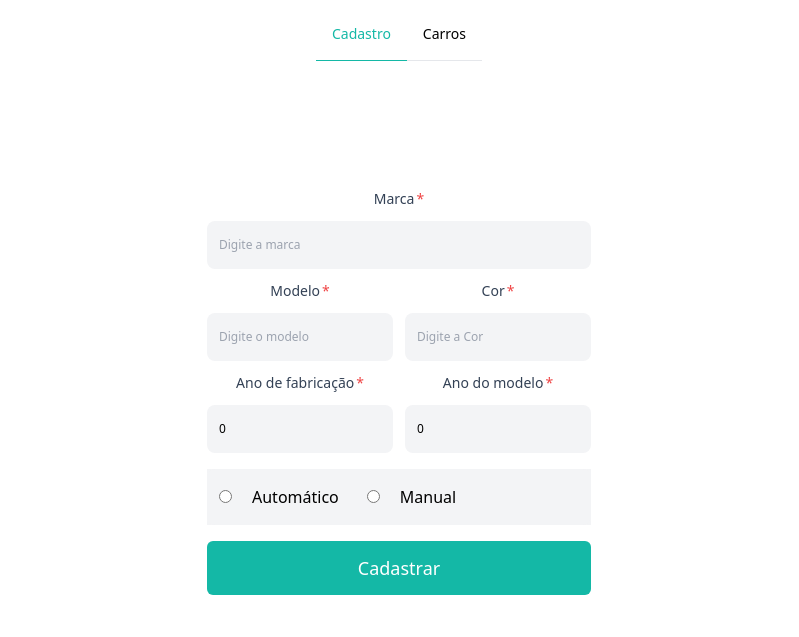
it: General CoinList test › Verificar se Renderizando os dados dos carros
Click the button "Carros" at (444, 34), box top-left (407, 8), bottom-right (482, 61)
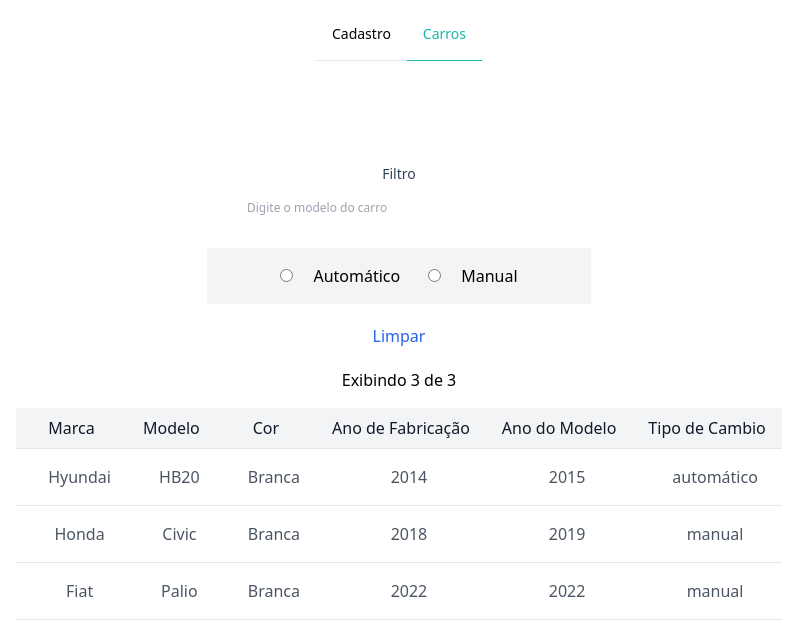
Check: the text "Hyundai" is shown, box top-left (16, 448), bottom-right (127, 506)
Check: the text "Honda" is shown, box top-left (16, 506), bottom-right (127, 562)
